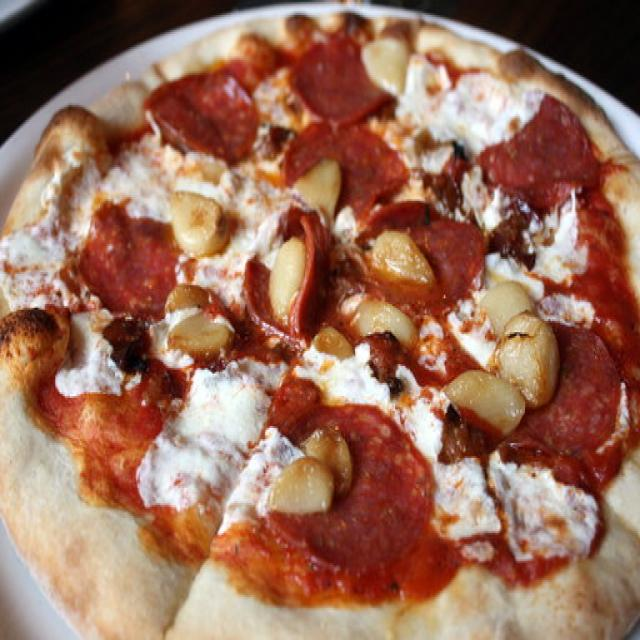Pepperoni: (354, 415, 432, 579), (82, 205, 170, 328), (148, 70, 254, 159), (564, 322, 620, 451), (288, 124, 403, 186), (508, 106, 576, 200), (289, 46, 364, 115), (437, 215, 480, 298), (303, 209, 329, 337), (241, 260, 273, 333), (272, 379, 316, 424)
Pizza: (0, 17, 640, 640)
